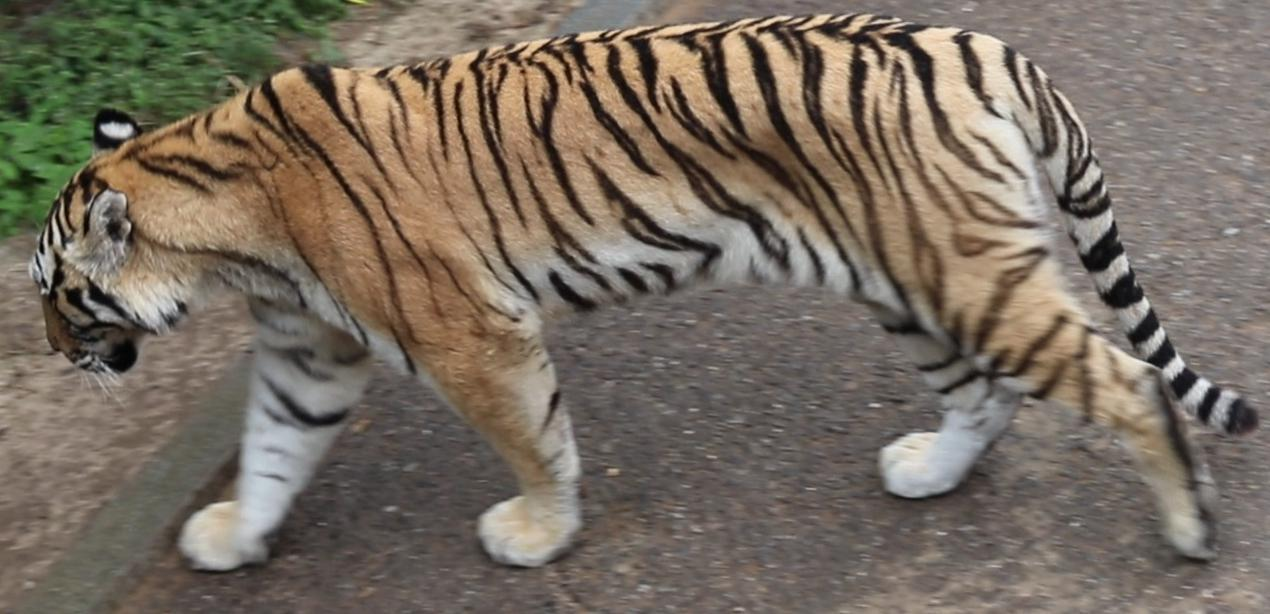tiger: (29, 14, 1258, 570)
